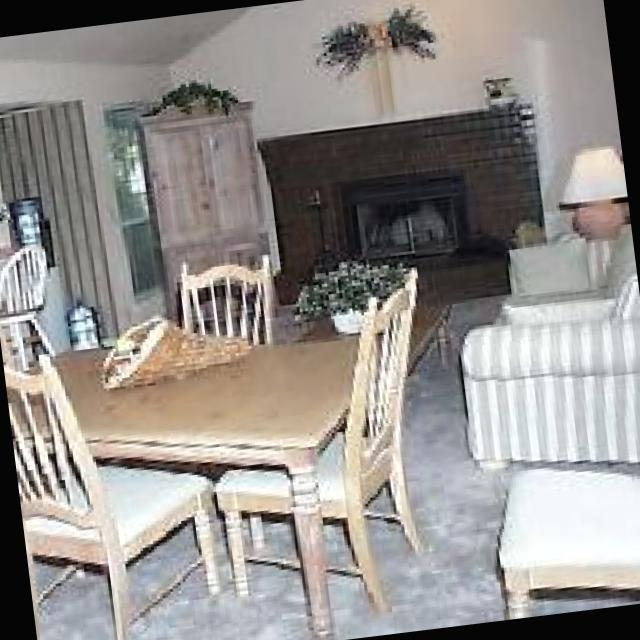chair: (192, 264, 458, 631), (2, 329, 236, 640)
cupboard: (136, 94, 283, 328)
plants: (288, 248, 420, 340), (310, 0, 441, 81), (141, 72, 242, 125)
sofa: (444, 223, 640, 498)
window: (104, 96, 172, 302)
